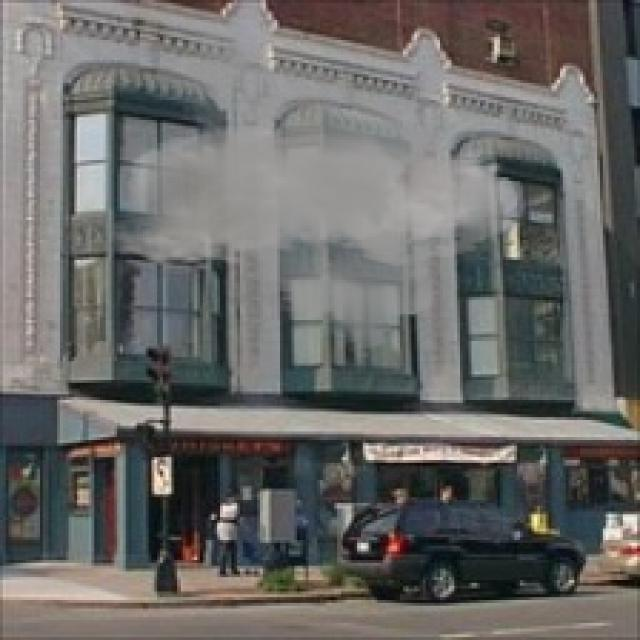Smoke: (108, 14, 520, 360)
